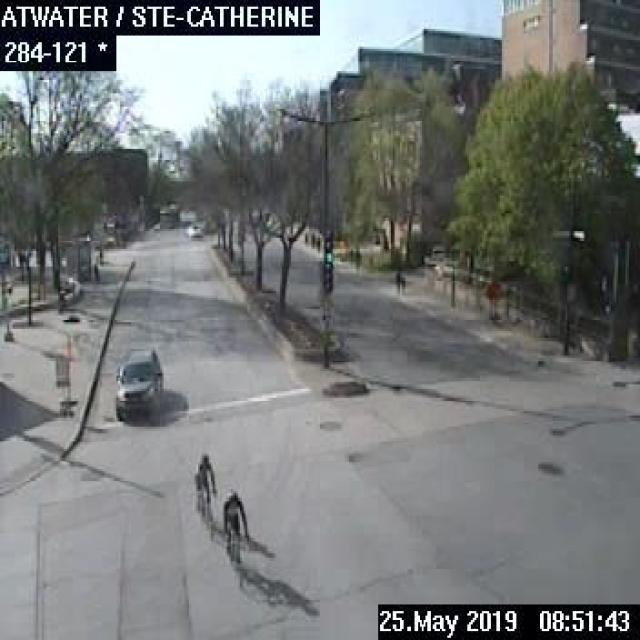bus: (158, 202, 178, 226)
cyclist: (218, 489, 249, 567), (189, 449, 218, 522)
pedestrian: (393, 266, 400, 296), (400, 275, 405, 293)
vehicle: (114, 346, 161, 424), (185, 221, 204, 235)
